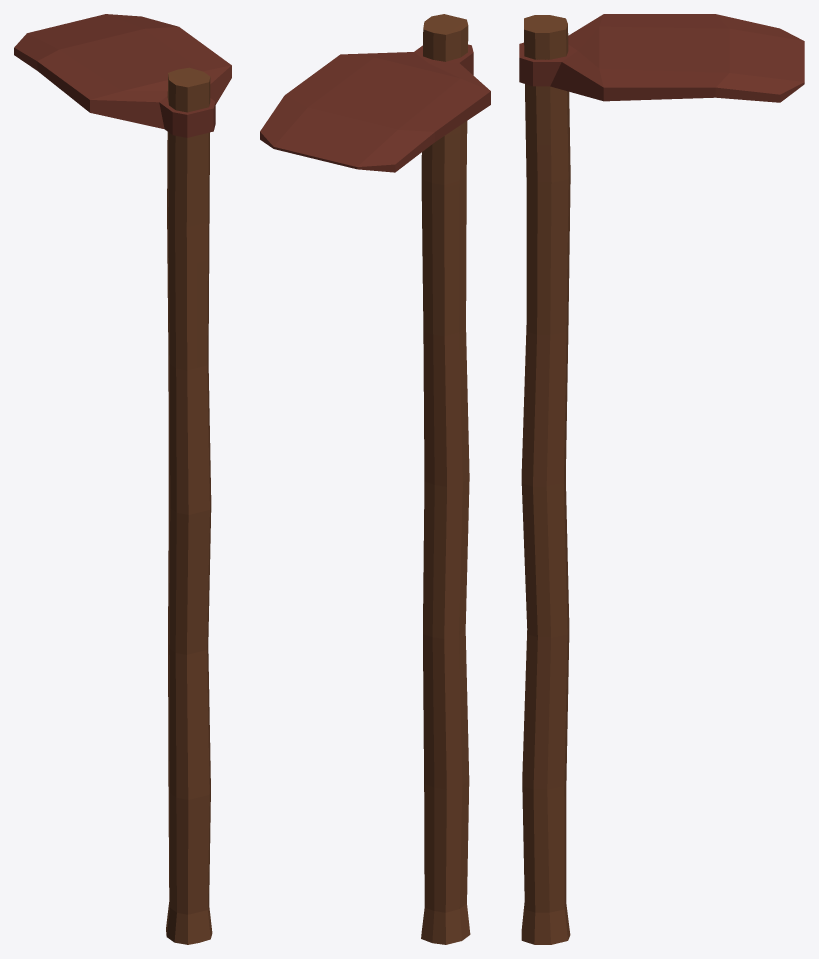
Rendered from hoe_copper.glb.
The picture shows the model from 3 angles, left to right: view 1: azimuth 30°, elevation 25°; view 2: azimuth 150°, elevation 25°; view 3: azimuth 270°, elevation 25°; orthographic projection. The views are drawn at different scales.
Visible parts, largest first — view 1: HoeV12; view 2: HoeV12; view 3: HoeV12.
Boxes of the visible parts, box(x1,y1,x2,y2) form: HoeV12: box(14, 14, 231, 944); HoeV12: box(260, 14, 490, 944); HoeV12: box(519, 14, 804, 944).
Bounding box in the file's own units: 0.1634 × 0.9453 × 0.2675.
Materials: 2 (2 with a texture image).
